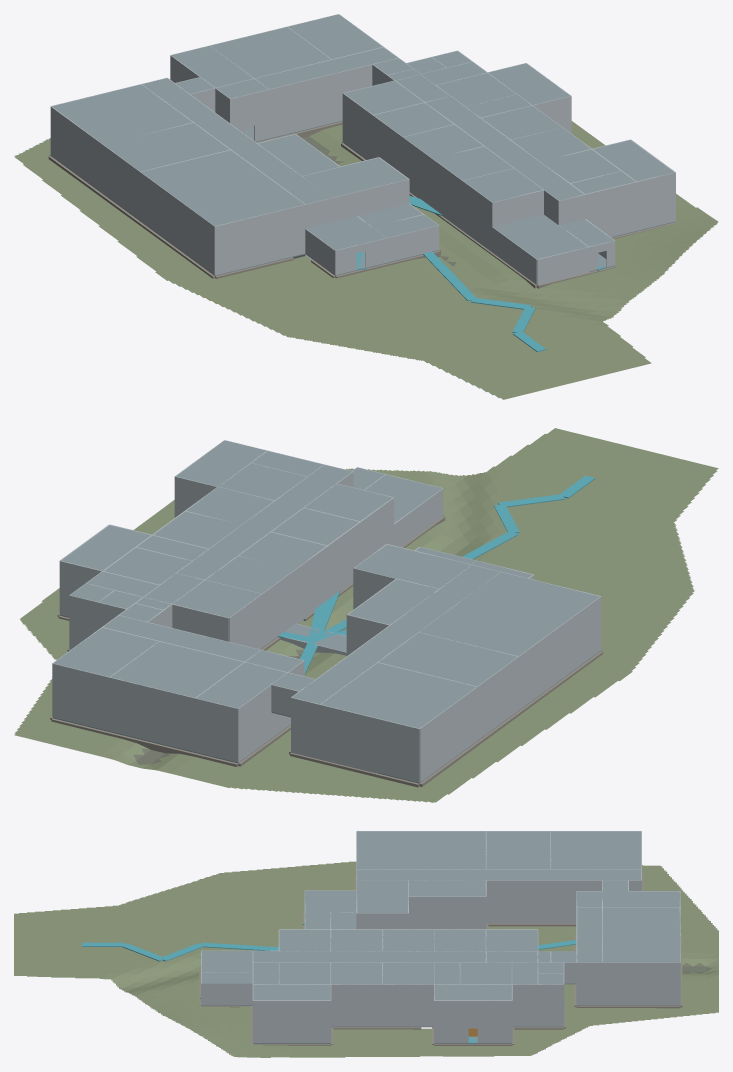
File: closed-floors.glb
3 views of the same model, one above another, from view 1: azimuth 30°, elevation 25°; view 2: azimuth 150°, elevation 25°; view 3: azimuth 270°, elevation 25° (orthographic). The views are drawn at different scales.
Visible parts, largest first — view 1: Saved editor macroterrain COLLEGE, Ceiling cap lecture, Ceiling cap project, Wall lecture S, Ceiling cap upper-teaching, Wall lecture W, Ceiling cap upper-stacks, Ceiling cap upper-res-hall, Ceiling cap upper-seminar, Wall bridge-lobby S, Ceiling cap tutorial, Ceiling cap upper-reading (+52 smaller); view 2: Saved editor macroterrain COLLEGE, Ceiling cap lecture, Ceiling cap project, Ceiling cap upper-teaching, Wall lecture W, Ceiling cap upper-res-hall, Ceiling cap upper-stacks, Ceiling cap upper-seminar, Wall project N, Ceiling cap tutorial, Ceiling cap upper-reading, Wall upper-stacks N (+54 smaller); view 3: Saved editor macroterrain COLLEGE, Ceiling cap lecture, Ceiling cap project, Ceiling cap upper-teaching, Ceiling cap upper-res-hall, Ceiling cap upper-stacks, Ceiling cap upper-seminar, Wall upper-teaching E.001, Wall teaching-hall E, Ceiling cap upper-reading, Wall upper-reading E, Wall upper-north-stair E (+44 smaller).
Boxes of the visible parts, x1,y1,x2,y2 form: Saved editor macroterrain COLLEGE: [14, 121, 718, 399]; Ceiling cap lecture: [141, 150, 304, 225]; Ceiling cap project: [51, 84, 192, 144]; Wall lecture S: [215, 204, 305, 275]; Ceiling cap upper-teaching: [142, 78, 330, 204]; Wall lecture W: [140, 172, 215, 275]; Ceiling cap upper-stacks: [210, 27, 330, 78]; Ceiling cap upper-res-hall: [425, 96, 583, 200]; Ceiling cap upper-seminar: [103, 123, 229, 171]; Wall bridge-lobby S: [269, 62, 380, 113]; Ceiling cap tutorial: [303, 157, 407, 197]; Ceiling cap upper-reading: [288, 14, 382, 59]; Saved editor macroterrain COLLEGE: [14, 428, 718, 802]; Ceiling cap lecture: [419, 572, 599, 656]; Ceiling cap project: [320, 663, 476, 728]; Ceiling cap upper-teaching: [292, 565, 500, 703]; Wall lecture W: [519, 596, 601, 709]; Ceiling cap upper-res-hall: [177, 465, 352, 579]; Ceiling cap upper-stacks: [111, 641, 243, 697]; Ceiling cap upper-seminar: [379, 632, 517, 686]; Wall project N: [319, 704, 419, 755]; Ceiling cap tutorial: [354, 544, 471, 588]; Ceiling cap upper-reading: [53, 627, 158, 676]; Wall upper-stacks N: [109, 677, 194, 725]; Saved editor macroterrain COLLEGE: [14, 861, 718, 1057]; Ceiling cap lecture: [356, 831, 485, 869]; Ceiling cap project: [551, 831, 641, 869]; Ceiling cap upper-teaching: [356, 869, 641, 880]; Ceiling cap upper-res-hall: [253, 951, 485, 962]; Ceiling cap upper-stacks: [602, 908, 680, 940]; Ceiling cap upper-seminar: [486, 831, 550, 869]; Wall upper-teaching E.001: [461, 880, 610, 901]; Wall teaching-hall E: [486, 901, 576, 922]; Ceiling cap upper-reading: [602, 940, 680, 962]; Wall upper-reading E: [602, 962, 680, 983]; Wall upper-north-stair E: [434, 1000, 511, 1021].
Size of the model in its own units: 73 by 10.36 by 109.
